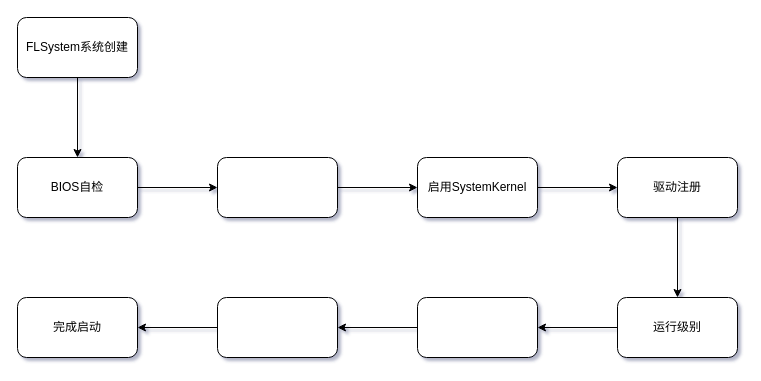
This 761x381 diagram has some shape labels left out. The box of each missing label's shape, as (x1, y1, x2, y2) in pixels:
BootLoader引导: (216, 156, 338, 218)
安全验证: (416, 296, 538, 358)
用户APP程序加载: (216, 296, 338, 358)
